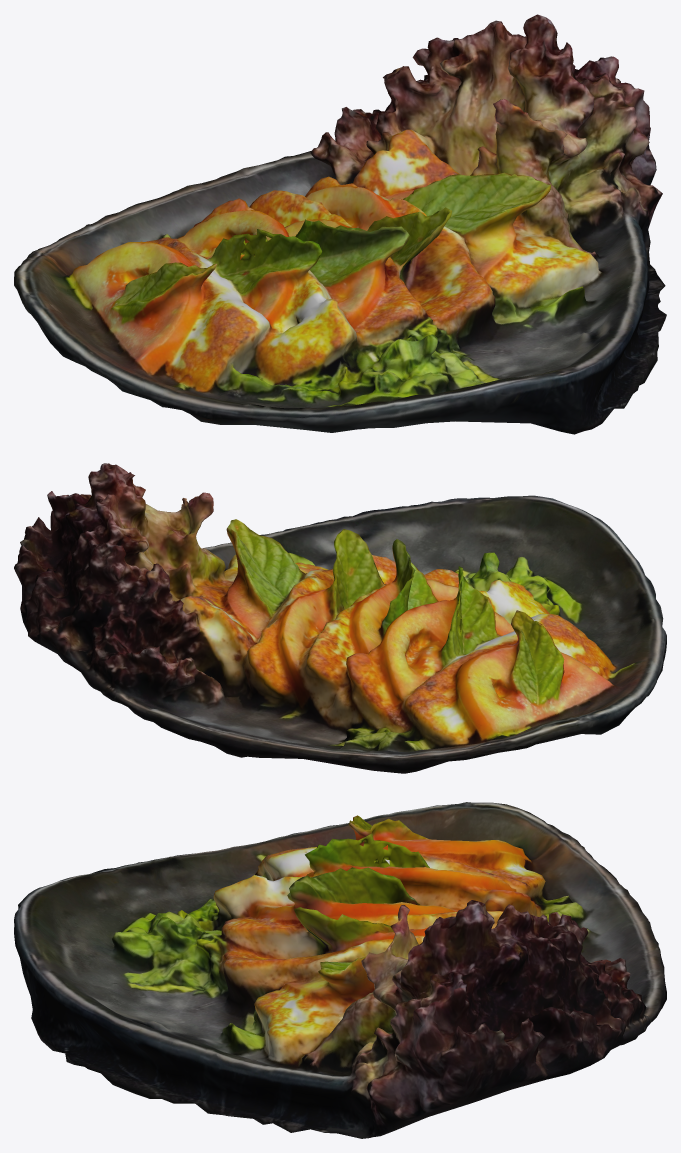
Rendered from hallomi_1752057967760.glb.
The picture shows the model from 3 angles, top to bottom: view 1: azimuth 30°, elevation 25°; view 2: azimuth 150°, elevation 25°; view 3: azimuth 270°, elevation 25°; orthographic projection. The views are drawn at different scales.
Parts seen in each view (by area): view 1: 3DModel_Custom; view 2: 3DModel_Custom; view 3: 3DModel_Custom.
Boxes of the visible parts, left/top/right/bottom form: 3DModel_Custom: left=14, top=14, right=666, bottom=434; 3DModel_Custom: left=14, top=463, right=666, bottom=773; 3DModel_Custom: left=14, top=802, right=666, bottom=1138.
Bounding box in the file's own units: 0.2241 × 0.0755 × 0.2021.
1 material, 1 textured.
